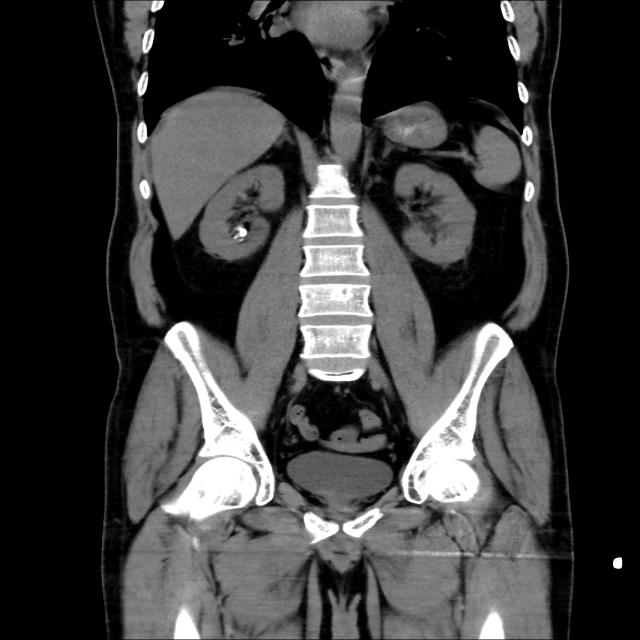kidneystone: (231, 224, 249, 242)
